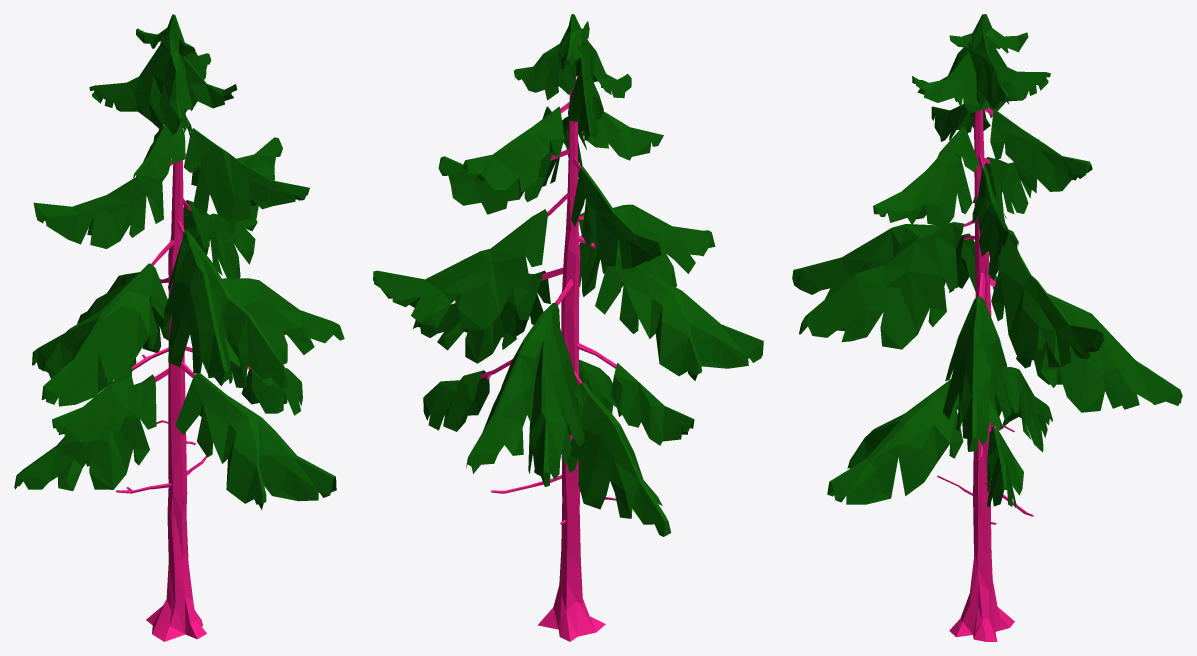
Rendered from SM_Tree_Spruce_Young_C.fbx.
The picture shows the model from 3 angles, left to right: view 1: azimuth 30°, elevation 25°; view 2: azimuth 150°, elevation 25°; view 3: azimuth 270°, elevation 25°; orthographic projection.
Visible parts, largest first — view 1: SM_Tree_Spruce_Young_C; view 2: SM_Tree_Spruce_Young_C; view 3: SM_Tree_Spruce_Young_C.
Boxes of the visible parts, left/top/right/bottom form: SM_Tree_Spruce_Young_C: left=14, top=14, right=344, bottom=641; SM_Tree_Spruce_Young_C: left=373, top=14, right=763, bottom=641; SM_Tree_Spruce_Young_C: left=792, top=14, right=1182, bottom=641.
Size of the model in its own units: 5.11 by 9.24 by 5.33.
